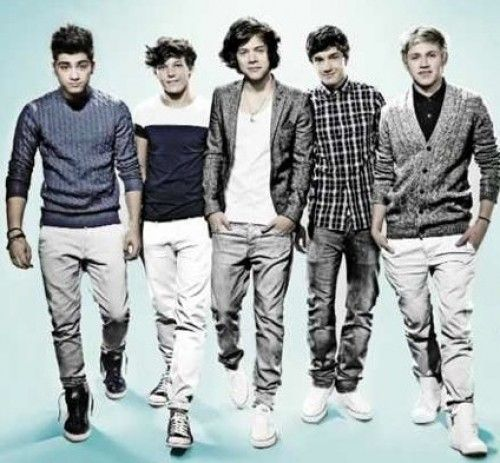person: (202, 13, 304, 138), (288, 19, 379, 154), (26, 22, 130, 138), (387, 35, 500, 128), (117, 35, 229, 120)
